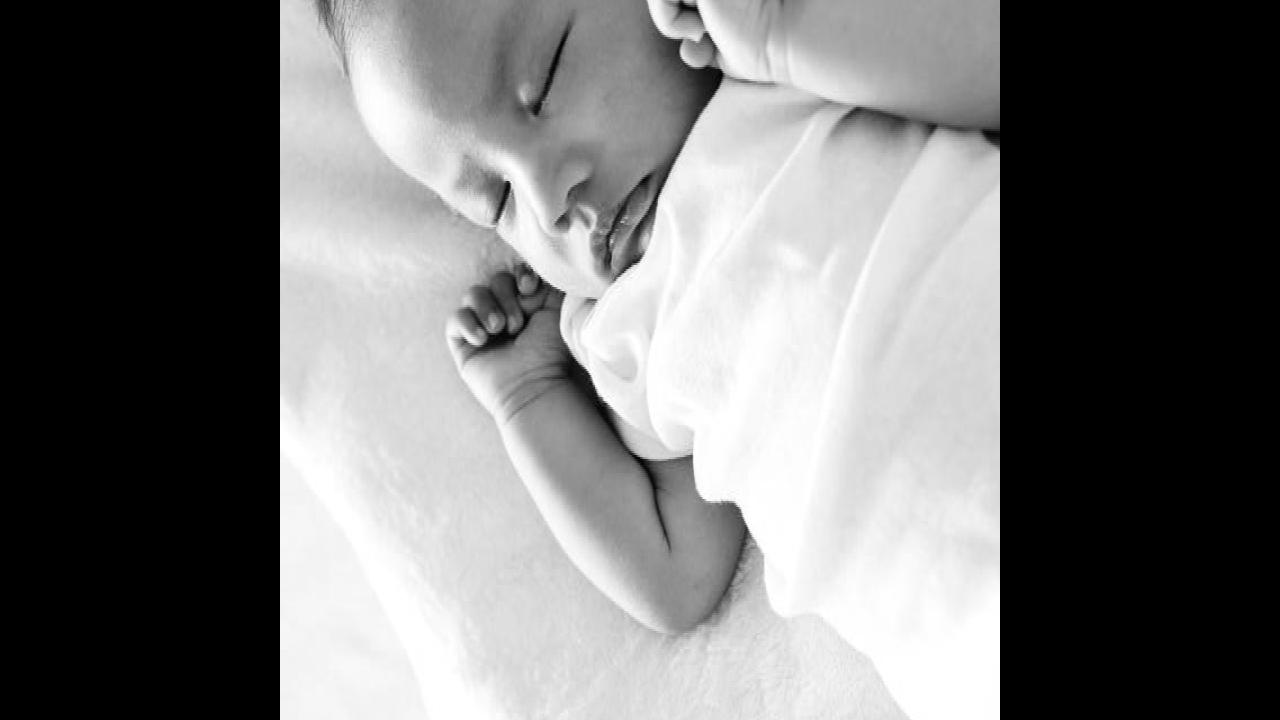hand: (446, 261, 564, 408), (643, 0, 781, 86)
